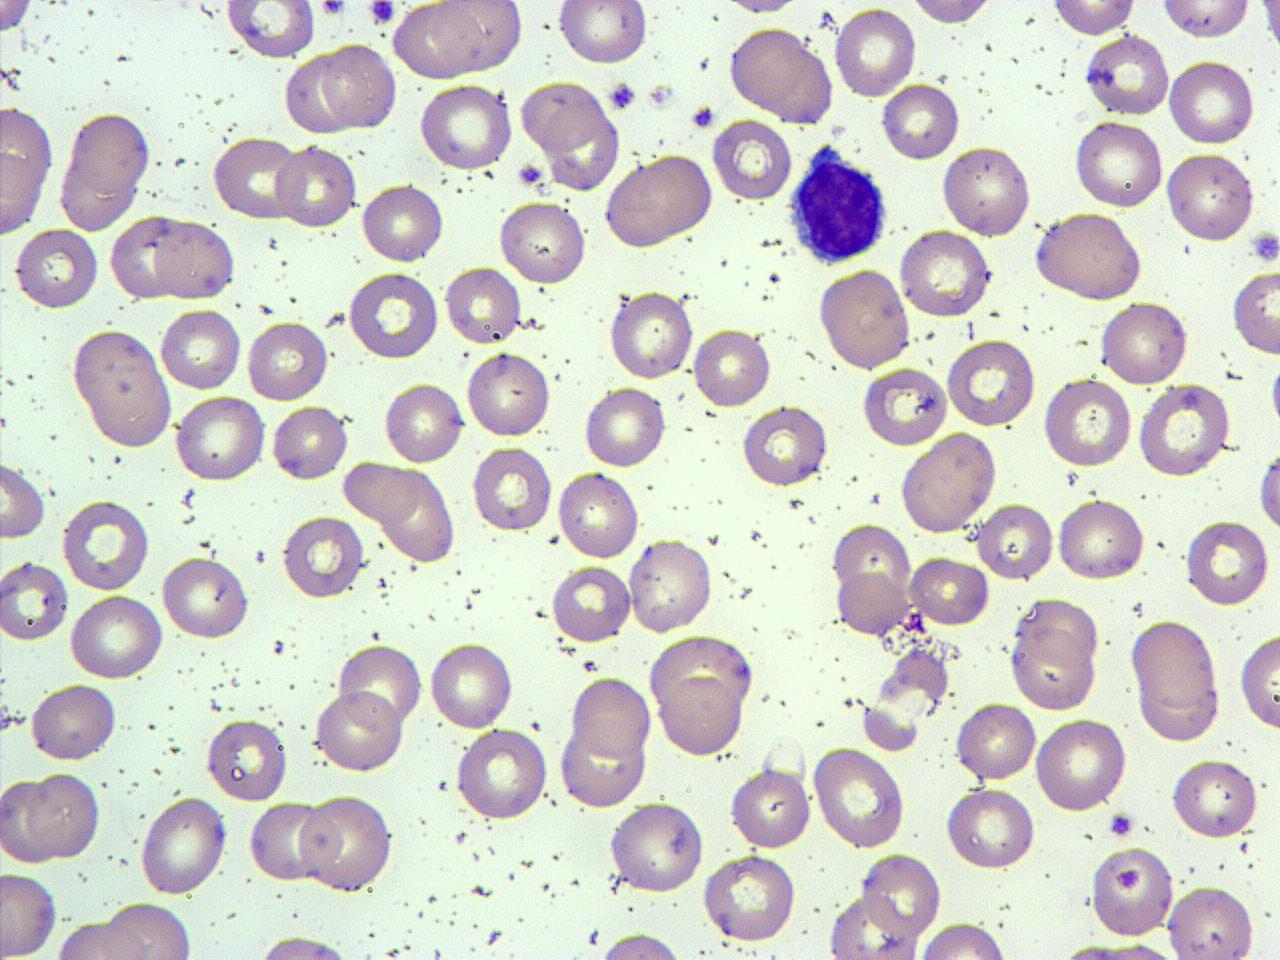Platelets: (1250, 228, 1280, 263), (607, 80, 638, 112), (1267, 359, 1280, 430), (1108, 810, 1136, 838), (647, 82, 676, 108), (516, 161, 546, 187), (369, 1, 397, 26), (691, 105, 717, 130), (321, 0, 348, 18), (272, 638, 287, 656)
RBC: (70, 328, 175, 450), (1127, 616, 1223, 740), (896, 430, 1000, 536), (602, 153, 716, 249), (725, 25, 835, 122), (816, 264, 914, 372), (1032, 212, 1148, 302), (298, 790, 396, 894), (810, 746, 908, 850), (1135, 380, 1233, 479), (1033, 714, 1129, 815), (138, 794, 230, 898), (608, 800, 706, 896), (939, 142, 1034, 240), (1070, 116, 1166, 212), (453, 728, 549, 823), (701, 853, 800, 945), (1040, 374, 1134, 470), (416, 82, 514, 173), (626, 536, 716, 636), (1164, 149, 1258, 244), (896, 228, 994, 319), (860, 650, 944, 754), (1097, 298, 1193, 389), (173, 393, 270, 484), (66, 592, 164, 681), (945, 336, 1040, 428), (59, 498, 151, 593), (346, 270, 439, 362), (159, 552, 252, 642), (607, 289, 696, 383), (555, 466, 641, 564), (1166, 56, 1258, 147), (496, 198, 590, 286), (1089, 843, 1175, 939), (1183, 516, 1273, 608), (464, 348, 553, 440), (211, 133, 303, 222), (556, 720, 650, 808), (428, 640, 516, 733), (833, 5, 918, 100), (1169, 754, 1261, 842), (944, 786, 1037, 872), (312, 688, 404, 774), (1054, 495, 1146, 582), (378, 464, 458, 564), (337, 640, 426, 728), (656, 672, 746, 758), (740, 404, 830, 490), (470, 442, 554, 533), (28, 680, 119, 764), (12, 225, 101, 311), (205, 716, 290, 805), (860, 364, 950, 447), (0, 103, 55, 238), (280, 513, 366, 600), (244, 318, 330, 404), (953, 698, 1039, 784), (358, 181, 444, 265), (1083, 32, 1171, 116), (1166, 882, 1260, 960), (583, 384, 667, 470), (274, 142, 357, 230), (730, 764, 812, 852), (572, 674, 654, 762), (1009, 630, 1099, 711), (860, 851, 944, 936), (158, 306, 242, 391), (380, 380, 466, 464), (247, 798, 330, 884), (691, 324, 774, 410), (710, 118, 792, 203), (70, 110, 152, 195), (153, 217, 236, 302), (108, 214, 188, 301), (321, 41, 398, 130), (976, 499, 1056, 584), (392, 1, 478, 81), (442, 263, 524, 346), (432, 0, 524, 73), (518, 79, 606, 154), (550, 564, 632, 644), (270, 401, 350, 484), (880, 81, 959, 163), (823, 894, 923, 960), (57, 154, 140, 233), (29, 768, 100, 860), (556, 0, 650, 69), (1016, 594, 1101, 670), (0, 556, 70, 646), (910, 554, 990, 628), (282, 52, 352, 137), (833, 520, 912, 592), (223, 0, 315, 59), (102, 899, 194, 959), (0, 773, 58, 865), (0, 868, 59, 958), (338, 459, 421, 522), (833, 570, 912, 636), (1229, 267, 1279, 358), (1237, 630, 1279, 734), (49, 916, 150, 958), (0, 453, 47, 541), (1158, 0, 1254, 42), (917, 920, 1013, 960), (1049, 0, 1141, 37), (247, 932, 358, 960), (596, 930, 692, 960), (906, 0, 996, 28), (1254, 443, 1280, 535), (718, 0, 807, 19), (0, 0, 32, 38), (1256, 1, 1280, 51)
WBC: (786, 139, 892, 266)
